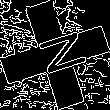N_W: (25, 28, 85, 82)
